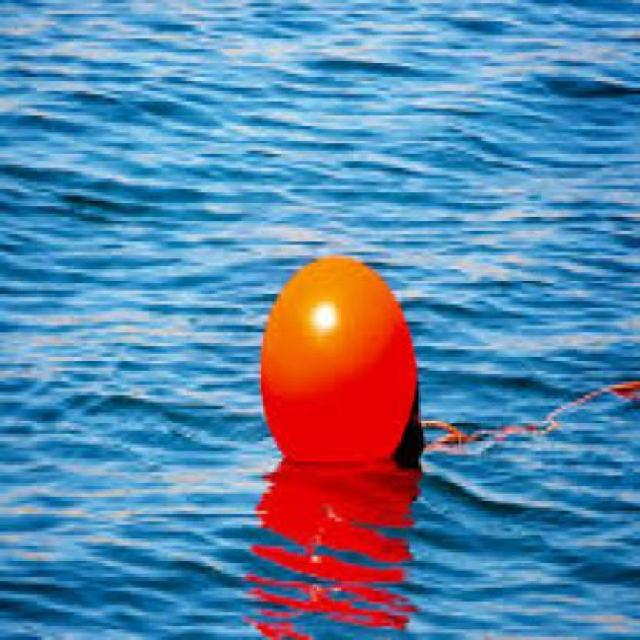buoy: (253, 239, 454, 494)
